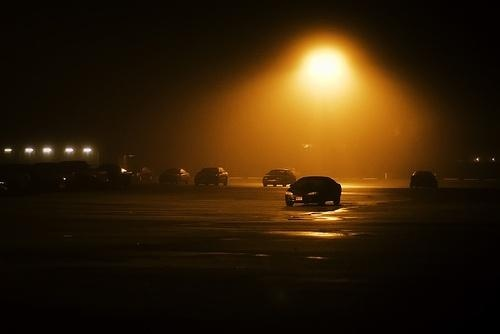car: (285, 176, 343, 211), (195, 167, 231, 188), (263, 169, 298, 188), (161, 168, 191, 187)
